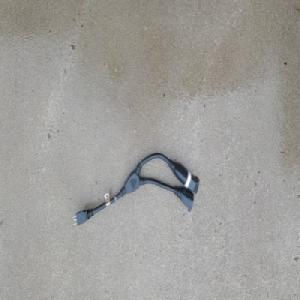Wire: (71, 151, 200, 229)
